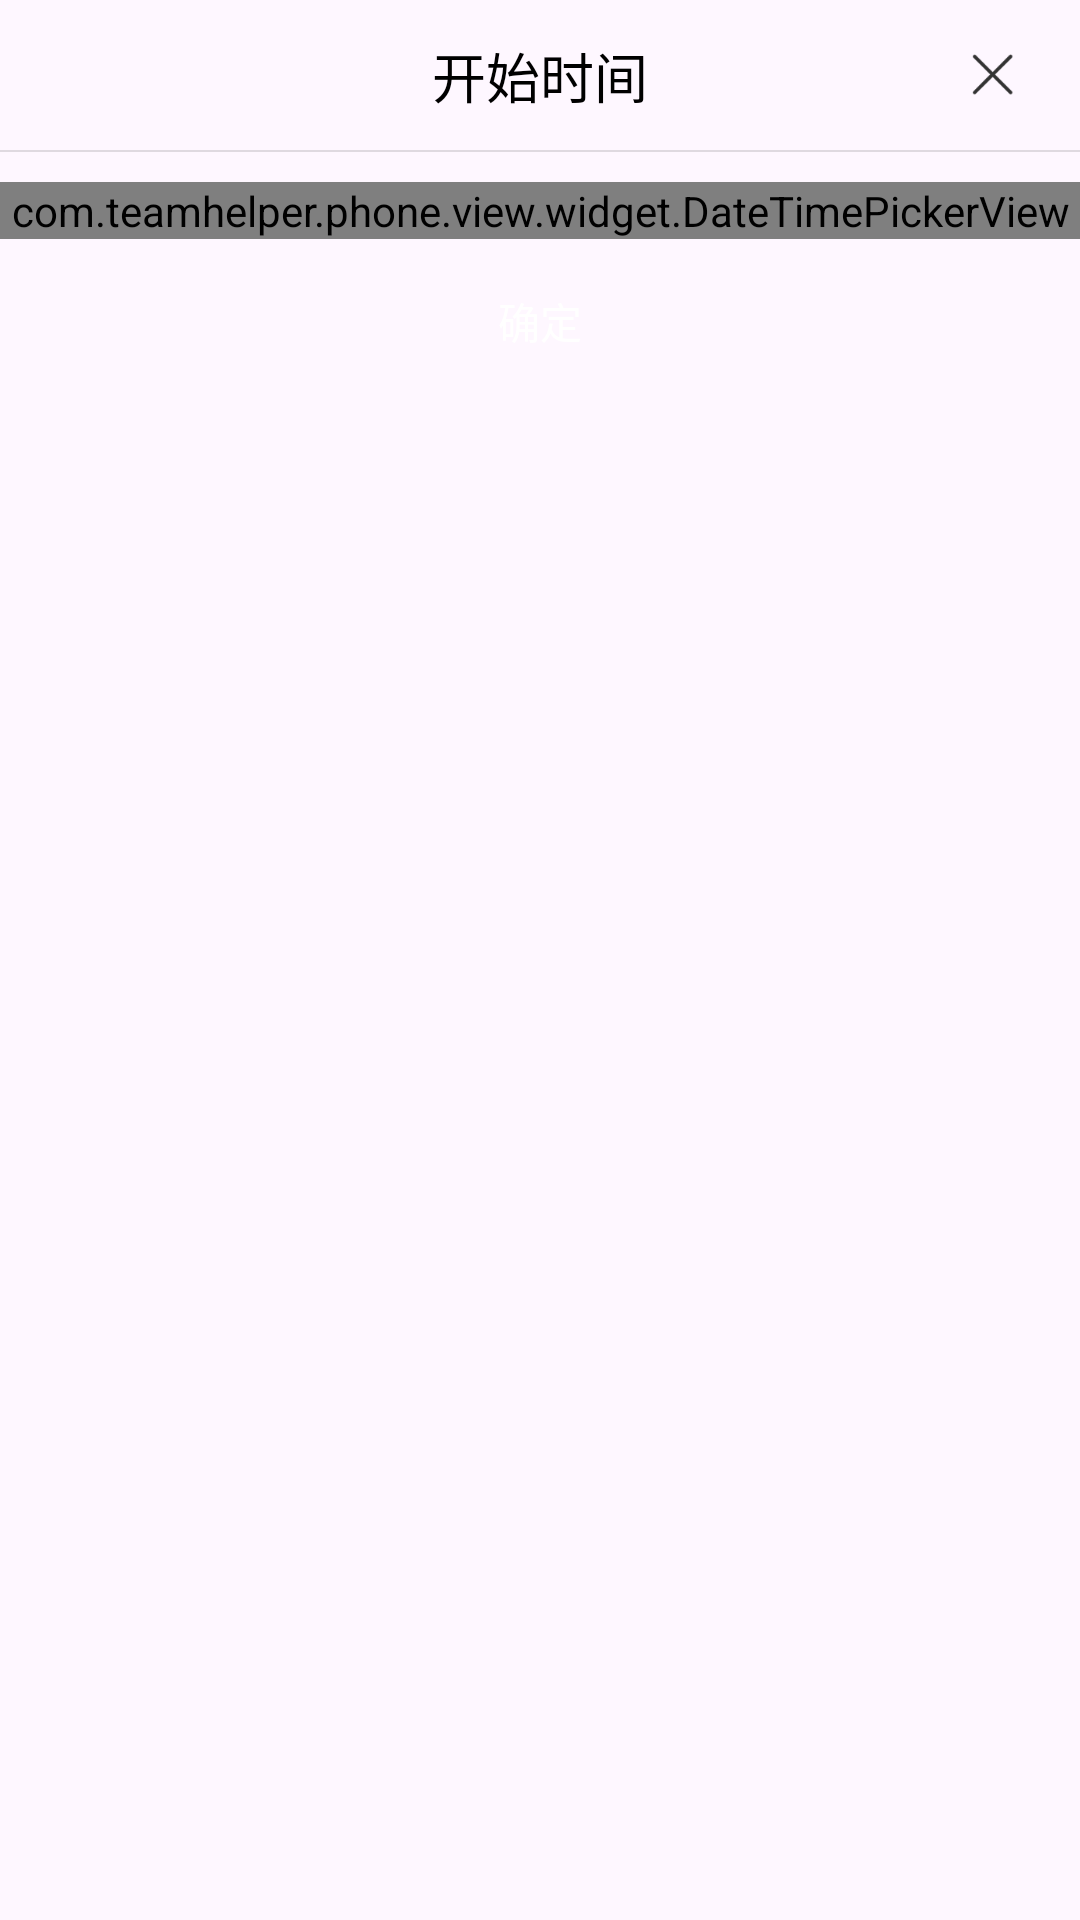

Icon bounding boxes for this 1080px×1920px phone screenshot, format {"left": x1, "top": y1, "right": x2, "bottom": y2}:
meeting close: {"left": 972, "top": 54, "right": 1013, "bottom": 95}
